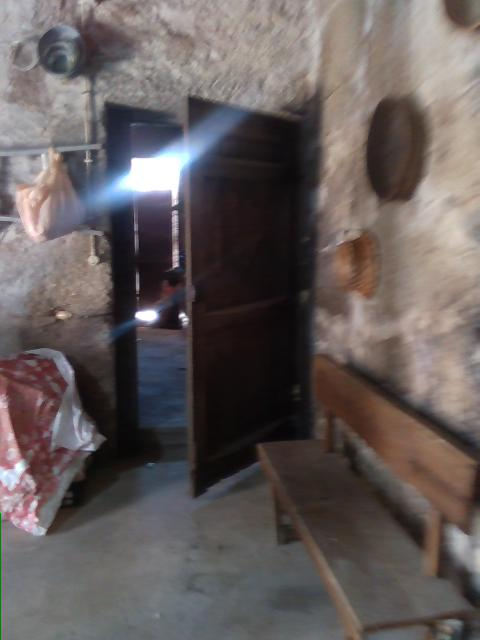semi_door: (101, 95, 319, 499)
